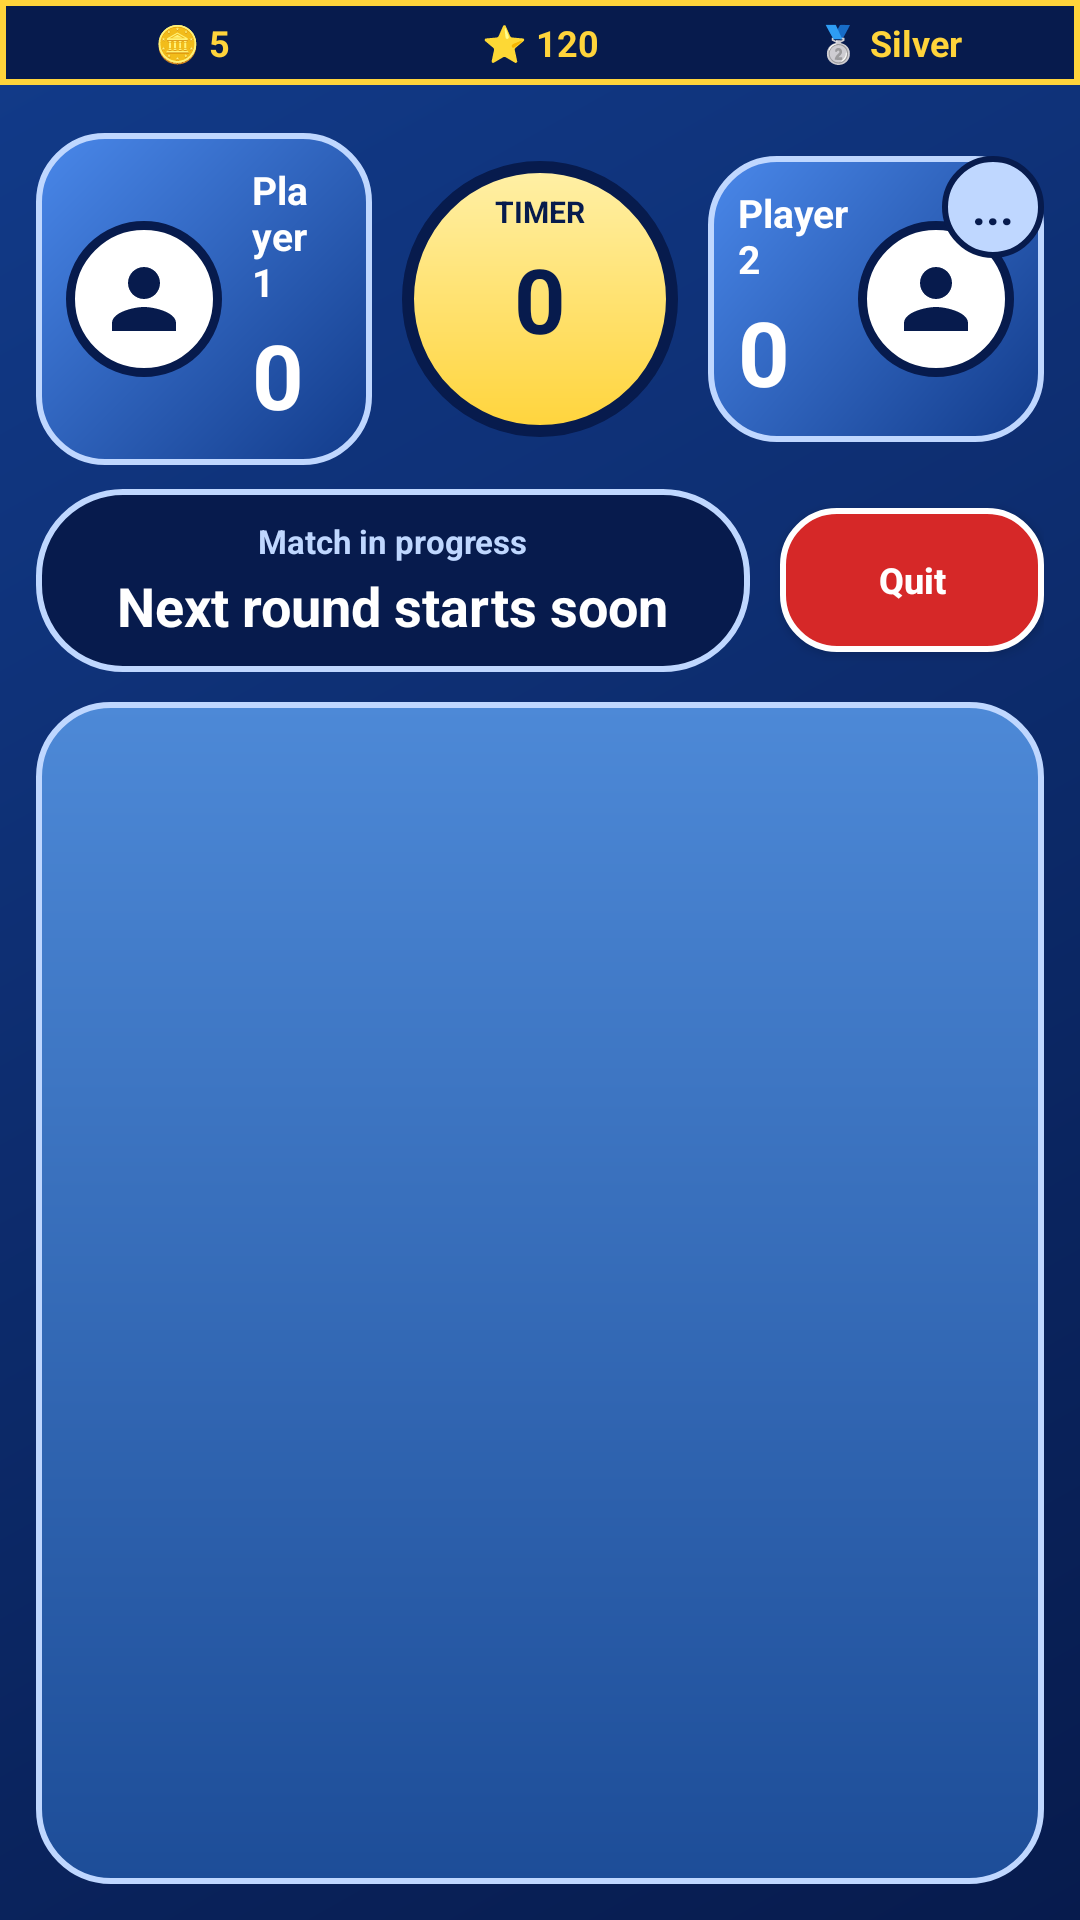

Point at icon controls on the screen. Image size 1080px x 1920px, points as point (x, y).
Player avatar: point (144, 299), point (936, 299)
